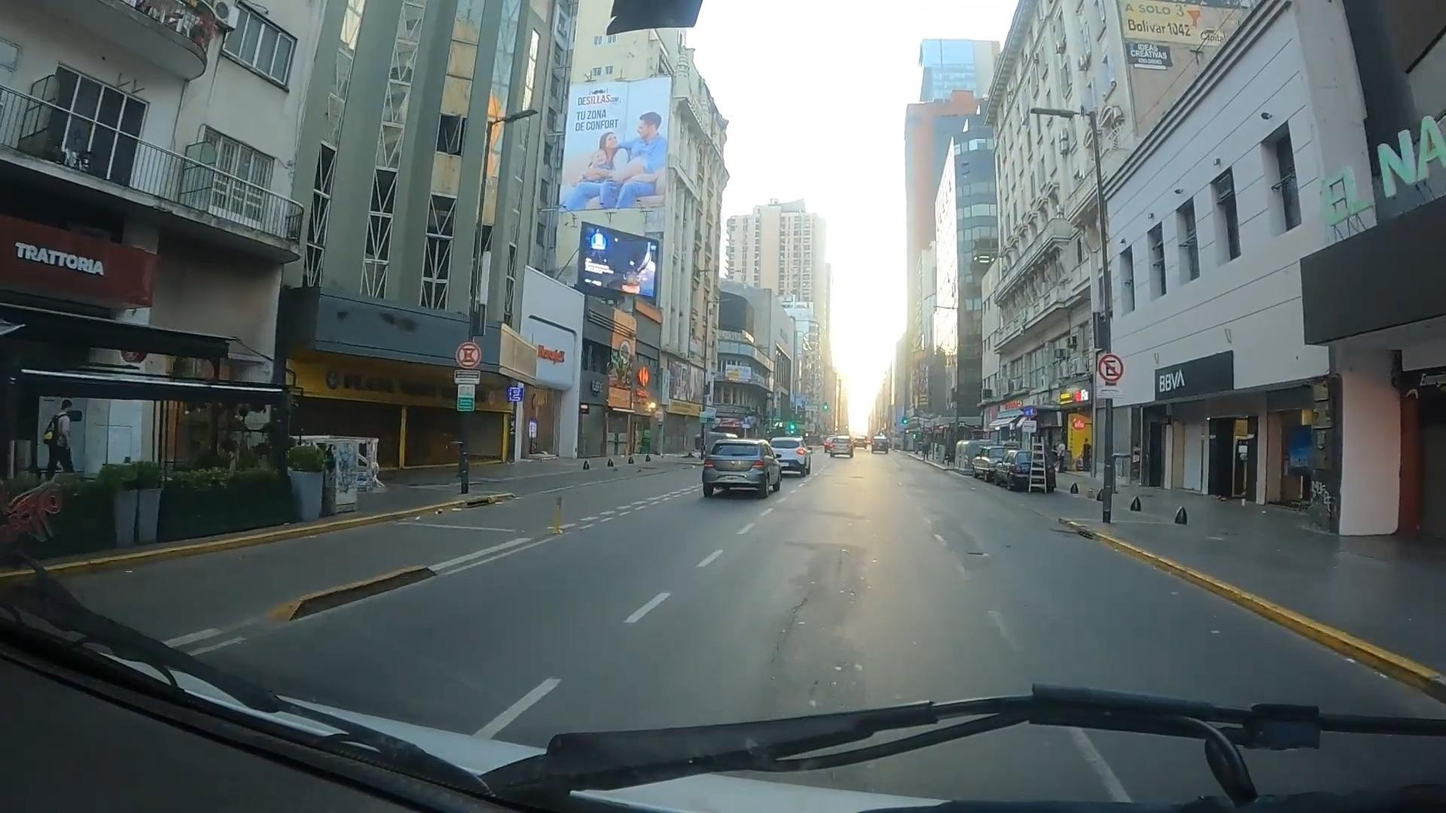dry: (22, 441, 1443, 736)
